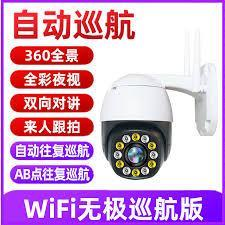maru: (98, 69, 175, 182)
